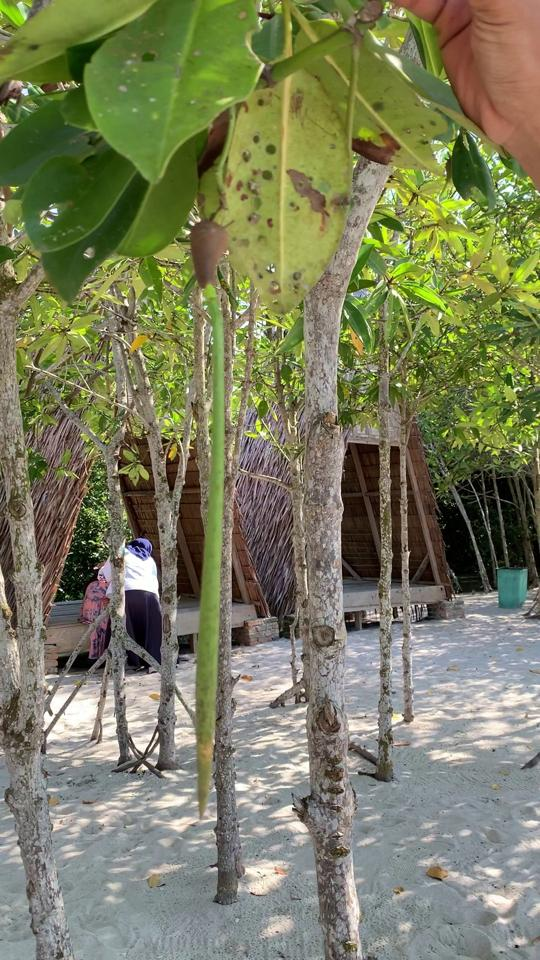setengah matang: (179, 204, 245, 825)
